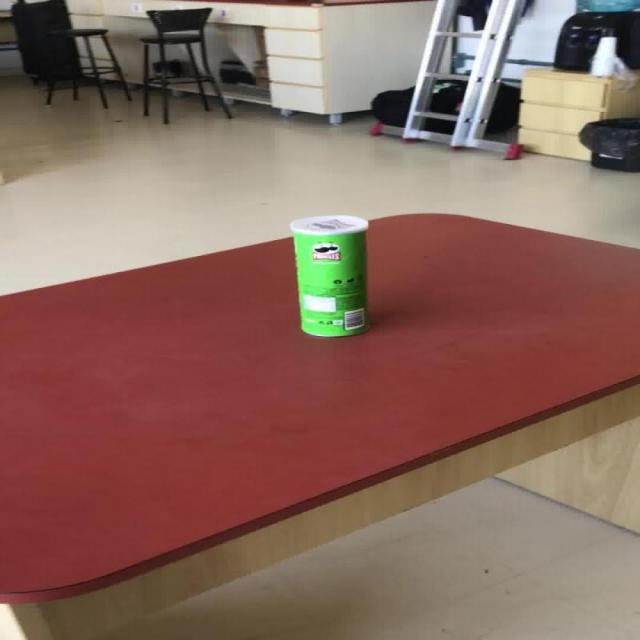Pringles: (288, 214, 370, 337)
